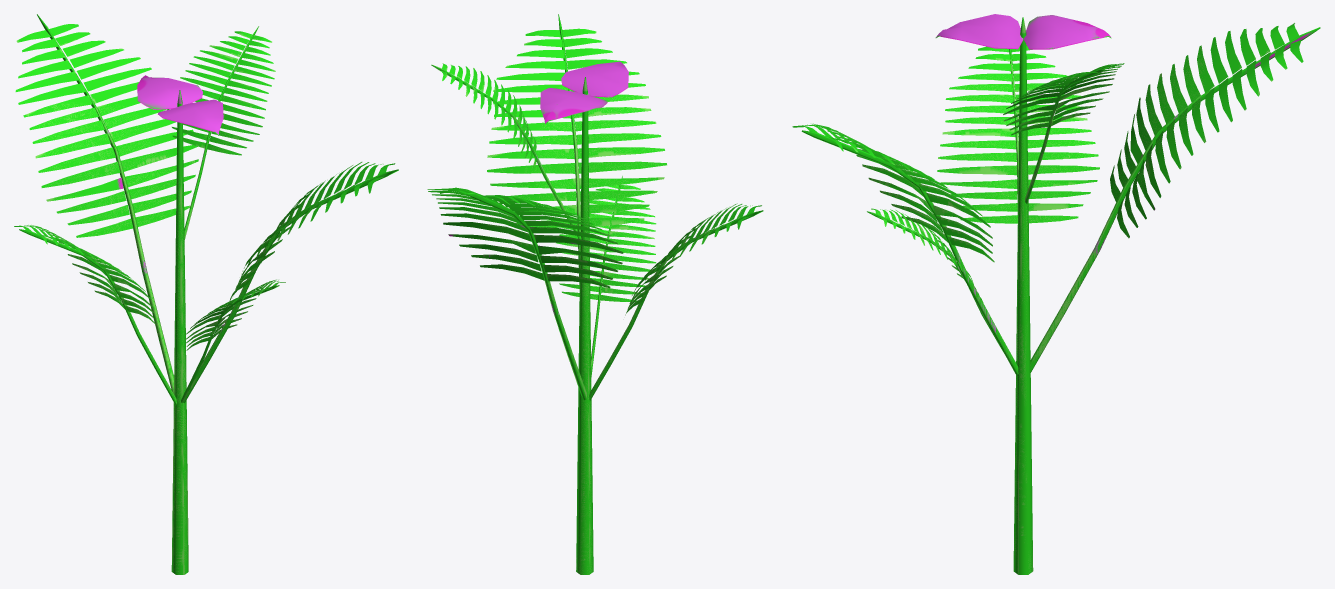
Rendered from planta_dalechampia_spp.fbx.
3 views of the same model, side by side, from view 1: azimuth 30°, elevation 25°; view 2: azimuth 150°, elevation 25°; view 3: azimuth 270°, elevation 25° (orthographic). The views are drawn at different scales.
Visible parts, largest first — view 1: base stem.025; view 2: base stem.025; view 3: base stem.025.
Part boxes in pixels (bbox=[...]): base stem.025: bbox=[14, 14, 398, 574]; base stem.025: bbox=[427, 14, 763, 574]; base stem.025: bbox=[792, 14, 1320, 574].
Size of the model in its own units: 1037 by 1604 by 1358.
Materials: 1 (1 with a texture image).
